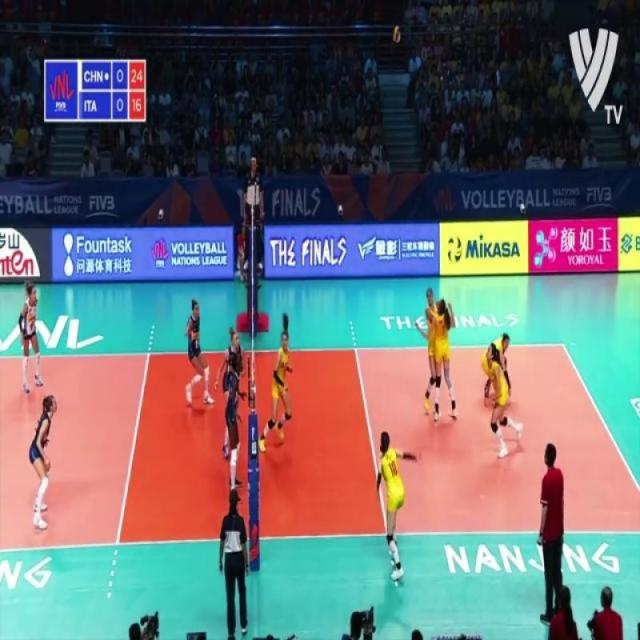volleyball: (445, 232, 463, 266), (391, 22, 403, 46)
